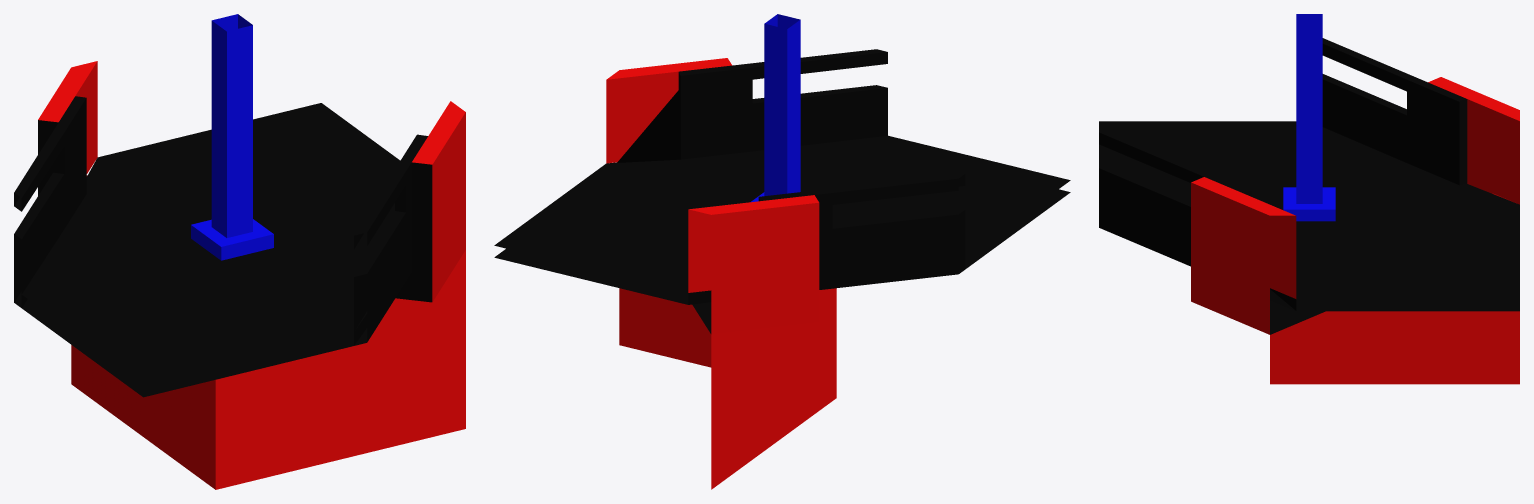
File: None_W_E_E_E_E_P_E_E_BigStrut.fbx
The picture shows the model from 3 angles, left to right: view 1: azimuth 30°, elevation 25°; view 2: azimuth 150°, elevation 25°; view 3: azimuth 270°, elevation 25°; orthographic projection. The views are drawn at different scales.
Visible parts, largest first — view 1: None_W_E_E_E_E_P_E_E_BigStrut; view 2: None_W_E_E_E_E_P_E_E_BigStrut; view 3: None_W_E_E_E_E_P_E_E_BigStrut.
Boxes of the visible parts, x1=… form: None_W_E_E_E_E_P_E_E_BigStrut: x1=14, y1=14, x2=465, y2=489; None_W_E_E_E_E_P_E_E_BigStrut: x1=494, y1=14, x2=1070, y2=489; None_W_E_E_E_E_P_E_E_BigStrut: x1=1099, y1=14, x2=1519, y2=384.
Size of the model in its own units: 100 by 100 by 100.
